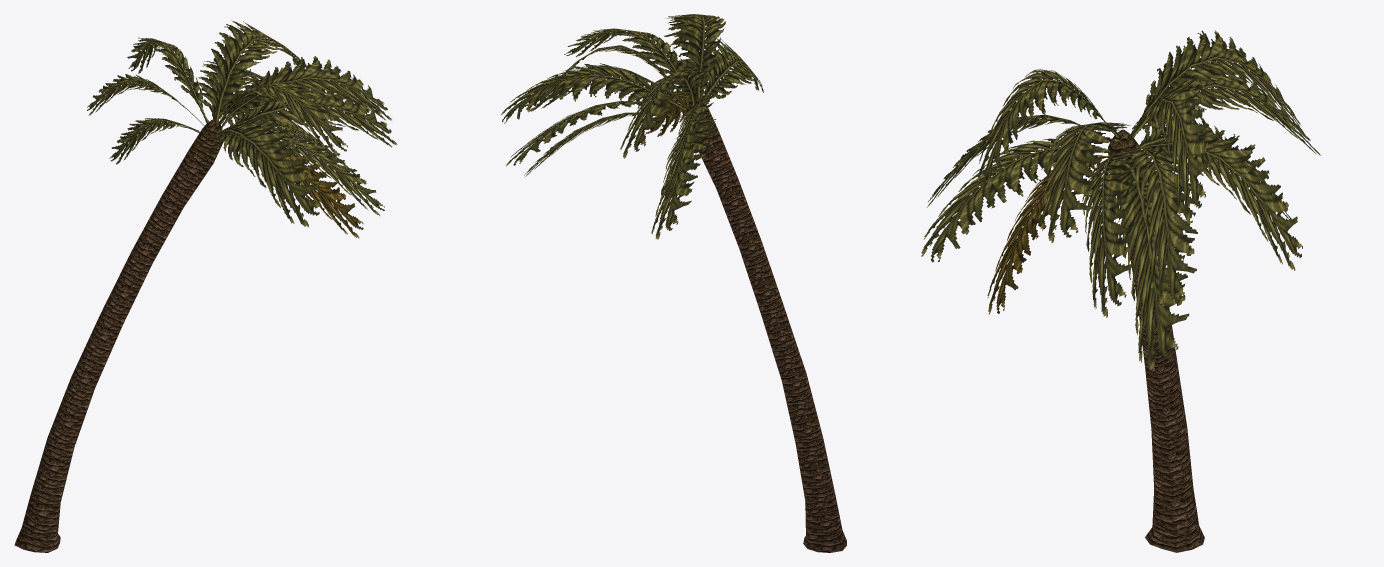
The model's file is Palmeira_02_Vento_Do_Mar.glb.
3 views of the same model, side by side, from view 1: azimuth 30°, elevation 25°; view 2: azimuth 150°, elevation 25°; view 3: azimuth 270°, elevation 25° (orthographic). The views are drawn at different scales.
Parts seen in each view (by area): view 1: Folhas abertas, Caule, Folhas novas, Folhas inferiores, Bainhas da copa; view 2: Caule, Folhas abertas, Folhas novas, Folhas inferiores; view 3: Folhas abertas, Folhas novas, Folhas inferiores, Caule, Bainhas da copa.
Boxes of the visible parts, left/top/right/bottom form: Folhas abertas: left=87, top=60, right=397, bottom=226; Caule: left=14, top=149, right=212, bottom=552; Folhas novas: left=127, top=20, right=391, bottom=156; Folhas inferiores: left=109, top=111, right=363, bottom=238; Bainhas da copa: left=189, top=119, right=223, bottom=164; Caule: left=695, top=130, right=846, bottom=552; Folhas abertas: left=501, top=38, right=763, bottom=206; Folhas novas: left=543, top=14, right=725, bottom=158; Folhas inferiores: left=524, top=91, right=716, bottom=239; Folhas abertas: left=921, top=59, right=1320, bottom=317; Folhas novas: left=977, top=30, right=1308, bottom=242; Folhas inferiores: left=987, top=114, right=1291, bottom=371; Caule: left=1114, top=178, right=1204, bottom=552; Bainhas da copa: left=1108, top=129, right=1142, bottom=180.
Size of the model in its own units: 8.45 by 9.79 by 7.45.
Materials: 2 (2 with a texture image).
